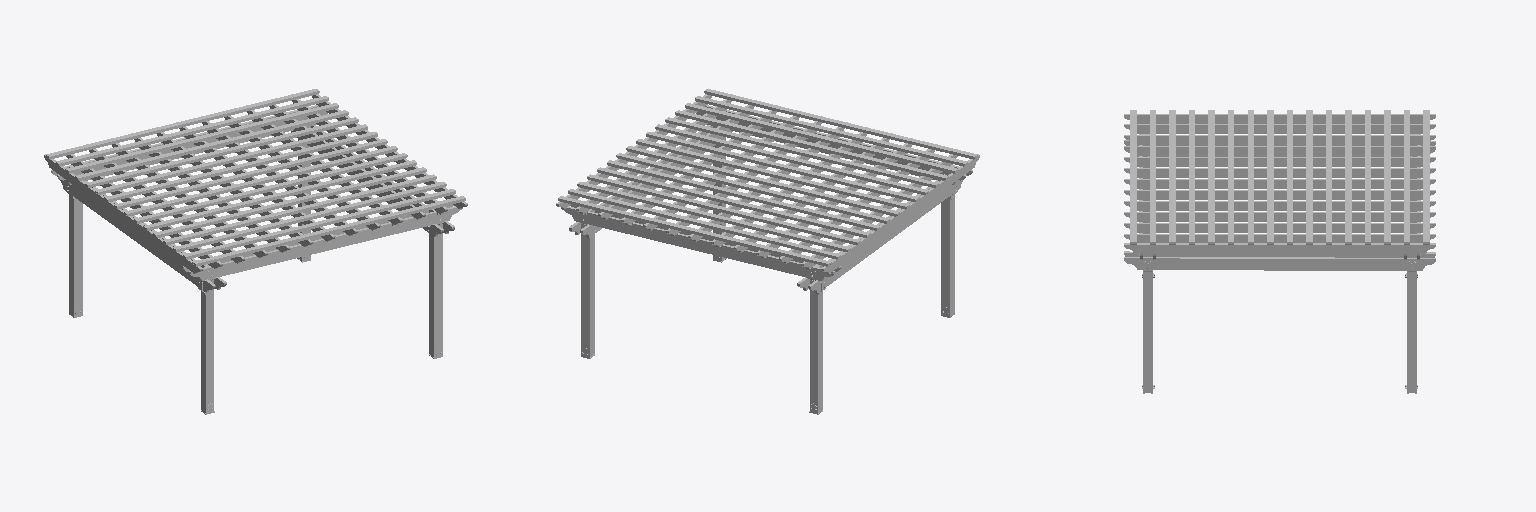
File: santa-monica-16x16-ogee.obj
3 views of the same model, side by side, from view 1: azimuth 30°, elevation 25°; view 2: azimuth 150°, elevation 25°; view 3: azimuth 270°, elevation 25° (orthographic).
Parts seen in each view (by area): view 1: Mesh150 header3 Group31 Group1 Model, Mesh191 Component_4_11 Group1 Model, Mesh171 Component_95_2 Group1 Model, Mesh187 Component_4_7 Group1 Model, Mesh200 Component_4_15 Group1 Model, Mesh184 Component_4_4 Group1 Model, Mesh188 Component_4_8 Group1 Model, Mesh189 Component_4_9 Group1 Model, Mesh190 Component_4_10 Group1 Model, Mesh197 Component_4_14 Group1 Model, Mesh183 Component_4_3 Group1 Model, Mesh186 Component_4_6 Group1 Model (+23 smaller); view 2: Mesh143 header1 Group28 Group1 Model, Mesh201 Component_4_16 Group1 Model, Mesh181 Component_4_1 Group1 Model, Mesh188 Component_4_8 Group1 Model, Mesh190 Component_4_10 Group1 Model, Mesh192 Component_4_12 Group1 Model, Mesh193 Component_4_13 Group1 Model, Mesh200 Component_4_15 Group1 Model, Mesh182 Component_4_2 Group1 Model, Mesh183 Component_4_3 Group1 Model, Mesh187 Component_4_7 Group1 Model, Mesh191 Component_4_11 Group1 Model (+23 smaller); view 3: Mesh153 header_2x8_ogee_20_2 Group34 Group1 Model, Mesh165 joist13 Group38 Group1 Model, Mesh79 joist3 Group18 Group1 Model, Mesh63 joist1 Group14 Group1 Model, Mesh74 joist2 Group17 Group1 Model, Mesh90 joist4 Group21 Group1 Model, Mesh95 joist5 Group22 Group1 Model, Mesh100 joist6 Group23 Group1 Model, Mesh105 joist7 Group24 Group1 Model, Mesh132 joist8 Group25 Group1 Model, Mesh137 joist9 Group26 Group1 Model, Mesh142 joist10 Group27 Group1 Model (+21 smaller).
Boxes of the visible parts, <box> form: Mesh150 header3 Group31 Group1 Model: <box>189,206,459,280</box>; Mesh191 Component_4_11 Group1 Model: <box>75,110,348,180</box>; Mesh171 Component_95_2 Group1 Model: <box>429,209,442,357</box>; Mesh187 Component_4_7 Group1 Model: <box>124,146,397,216</box>; Mesh200 Component_4_15 Group1 Model: <box>104,132,377,201</box>; Mesh184 Component_4_4 Group1 Model: <box>46,89,319,159</box>; Mesh188 Component_4_8 Group1 Model: <box>192,196,465,266</box>; Mesh189 Component_4_9 Group1 Model: <box>153,167,426,237</box>; Mesh190 Component_4_10 Group1 Model: <box>163,174,436,244</box>; Mesh197 Component_4_14 Group1 Model: <box>134,153,407,223</box>; Mesh183 Component_4_3 Group1 Model: <box>65,103,338,173</box>; Mesh186 Component_4_6 Group1 Model: <box>183,189,455,259</box>; Mesh143 header1 Group28 Group1 Model: <box>564,206,834,280</box>; Mesh201 Component_4_16 Group1 Model: <box>655,124,928,194</box>; Mesh181 Component_4_1 Group1 Model: <box>626,146,899,216</box>; Mesh188 Component_4_8 Group1 Model: <box>704,89,977,159</box>; Mesh190 Component_4_10 Group1 Model: <box>675,110,948,180</box>; Mesh192 Component_4_12 Group1 Model: <box>685,103,958,173</box>; Mesh193 Component_4_13 Group1 Model: <box>597,167,870,237</box>; Mesh200 Component_4_15 Group1 Model: <box>616,153,889,223</box>; Mesh182 Component_4_2 Group1 Model: <box>568,189,840,259</box>; Mesh183 Component_4_3 Group1 Model: <box>577,182,850,251</box>; Mesh187 Component_4_7 Group1 Model: <box>636,139,909,209</box>; Mesh191 Component_4_11 Group1 Model: <box>587,174,860,244</box>; Mesh153 header_2x8_ogee_20_2 Group34 Group1 Model: <box>1124,257,1435,270</box>; Mesh165 joist13 Group38 Group1 Model: <box>1124,243,1435,253</box>; Mesh79 joist3 Group18 Group1 Model: <box>1124,114,1435,123</box>; Mesh63 joist1 Group14 Group1 Model: <box>1124,201,1435,210</box>; Mesh74 joist2 Group17 Group1 Model: <box>1124,168,1435,177</box>; Mesh90 joist4 Group21 Group1 Model: <box>1124,179,1435,188</box>; Mesh95 joist5 Group22 Group1 Model: <box>1124,157,1435,166</box>; Mesh100 joist6 Group23 Group1 Model: <box>1124,146,1435,155</box>; Mesh105 joist7 Group24 Group1 Model: <box>1124,190,1435,199</box>; Mesh132 joist8 Group25 Group1 Model: <box>1124,135,1435,144</box>; Mesh137 joist9 Group26 Group1 Model: <box>1124,124,1435,133</box>; Mesh142 joist10 Group27 Group1 Model: <box>1124,223,1435,232</box>.
Size of the model in its own units: 192 by 108 by 192.